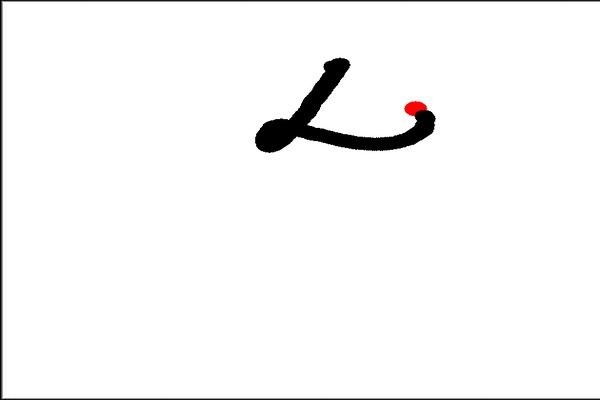L: (247, 47, 441, 166)
